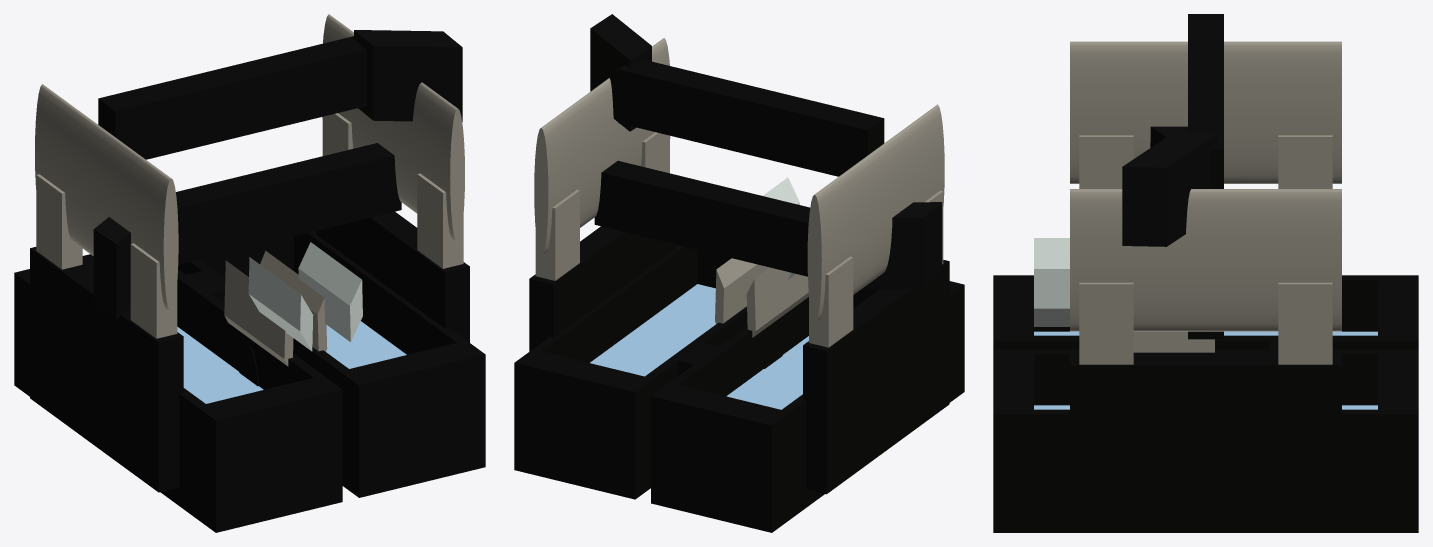
File: glasses.glb
3 renders of one model, left to right at view 1: azimuth 30°, elevation 25°; view 2: azimuth 150°, elevation 25°; view 3: azimuth 270°, elevation 25°, orthographic. The views are drawn at different scales.
Visible parts, largest first — view 1: right_hinge_plate_fitted, arm_bar.001_fitted, right_rim_bottom_fitted, left_rim_bottom_fitted, arm_bar_fitted, left_hinge_plate_fitted, ear_tip.001_fitted, hinge_knuckle.001_fitted, right_rim_inner_fitted, right_rim_outer_fitted, left_rim_outer_fitted, left_hinge_bottom_fitted (+19 smaller); view 2: right_hinge_plate_fitted, arm_bar.001_fitted, right_rim_top_fitted, arm_bar_fitted, left_rim_top_fitted, left_rim_outer_fitted, left_hinge_plate_fitted, hinge_knuckle.001_fitted, right_rim_outer_fitted, left_lens_fitted, hinge_knuckle_fitted, right_hinge_top_fitted (+16 smaller); view 3: left_hinge_plate_fitted, left_rim_outer_fitted, hinge_knuckle_fitted, hinge_knuckle.001_fitted, right_hinge_top_fitted, ear_tip.001_fitted, left_hinge_top_fitted, right_hinge_bottom_fitted, left_rim_bottom_fitted, left_hinge_bottom_fitted, arm_bar.001_fitted, left_rim_top_fitted (+13 smaller).
Boxes of the visible parts, <box> form: right_hinge_plate_fitted: <box>30,247,183,492</box>; arm_bar.001_fitted: <box>98,36,366,159</box>; right_rim_bottom_fitted: <box>196,375,342,532</box>; left_rim_bottom_fitted: <box>340,340,483,497</box>; arm_bar_fitted: <box>176,143,401,264</box>; left_hinge_plate_fitted: <box>316,211,469,342</box>; ear_tip.001_fitted: <box>354,30,462,121</box>; hinge_knuckle.001_fitted: <box>69,109,136,255</box>; right_rim_inner_fitted: <box>14,271,225,532</box>; right_rim_outer_fitted: <box>177,269,342,504</box>; left_rim_outer_fitted: <box>294,231,485,468</box>; left_hinge_bottom_fitted: <box>415,83,464,242</box>; right_hinge_plate_fitted: <box>803,260,949,494</box>; arm_bar.001_fitted: <box>618,60,884,176</box>; right_rim_top_fitted: <box>651,385,790,532</box>; arm_bar_fitted: <box>594,161,810,276</box>; left_rim_top_fitted: <box>518,349,653,497</box>; left_rim_outer_fitted: <box>514,244,697,471</box>; left_hinge_plate_fitted: <box>529,226,675,351</box>; hinge_knuckle.001_fitted: <box>847,128,911,294</box>; right_rim_outer_fitted: <box>651,297,808,505</box>; left_lens_fitted: <box>590,284,715,376</box>; hinge_knuckle_fitted: <box>574,78,638,227</box>; right_hinge_top_fitted: <box>807,170,854,322</box>; left_hinge_plate_fitted: <box>1070,352,1341,523</box>; left_rim_outer_fitted: <box>993,409,1418,532</box>; hinge_knuckle_fitted: <box>1142,189,1269,331</box>; hinge_knuckle.001_fitted: <box>1142,41,1269,183</box>; right_hinge_top_fitted: <box>1269,41,1341,183</box>; ear_tip.001_fitted: <box>1122,133,1217,246</box>; left_hinge_top_fitted: <box>1269,189,1341,331</box>; right_hinge_bottom_fitted: <box>1070,41,1142,183</box>; left_rim_bottom_fitted: <box>993,349,1033,532</box>; left_hinge_bottom_fitted: <box>1070,189,1142,331</box>; arm_bar.001_fitted: <box>1188,14,1223,188</box>; left_rim_top_fitted: <box>1378,349,1418,532</box>.
Size of the model in its own units: 1 by 1 by 1.
